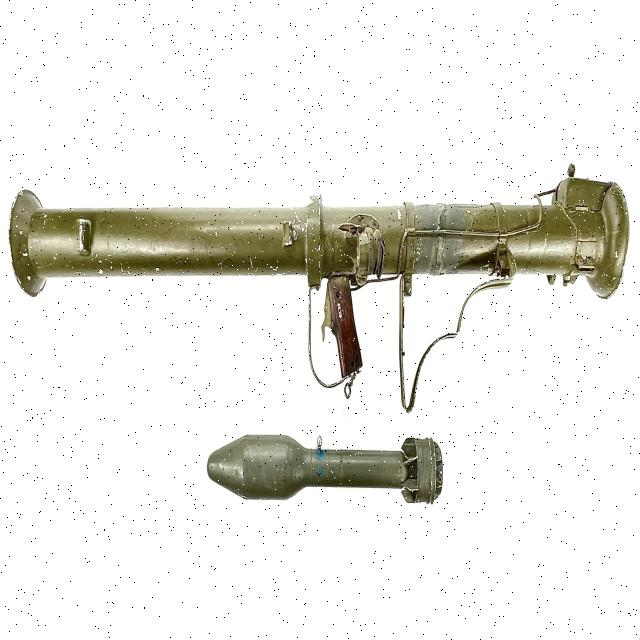bazooka: (8, 180, 637, 390)
